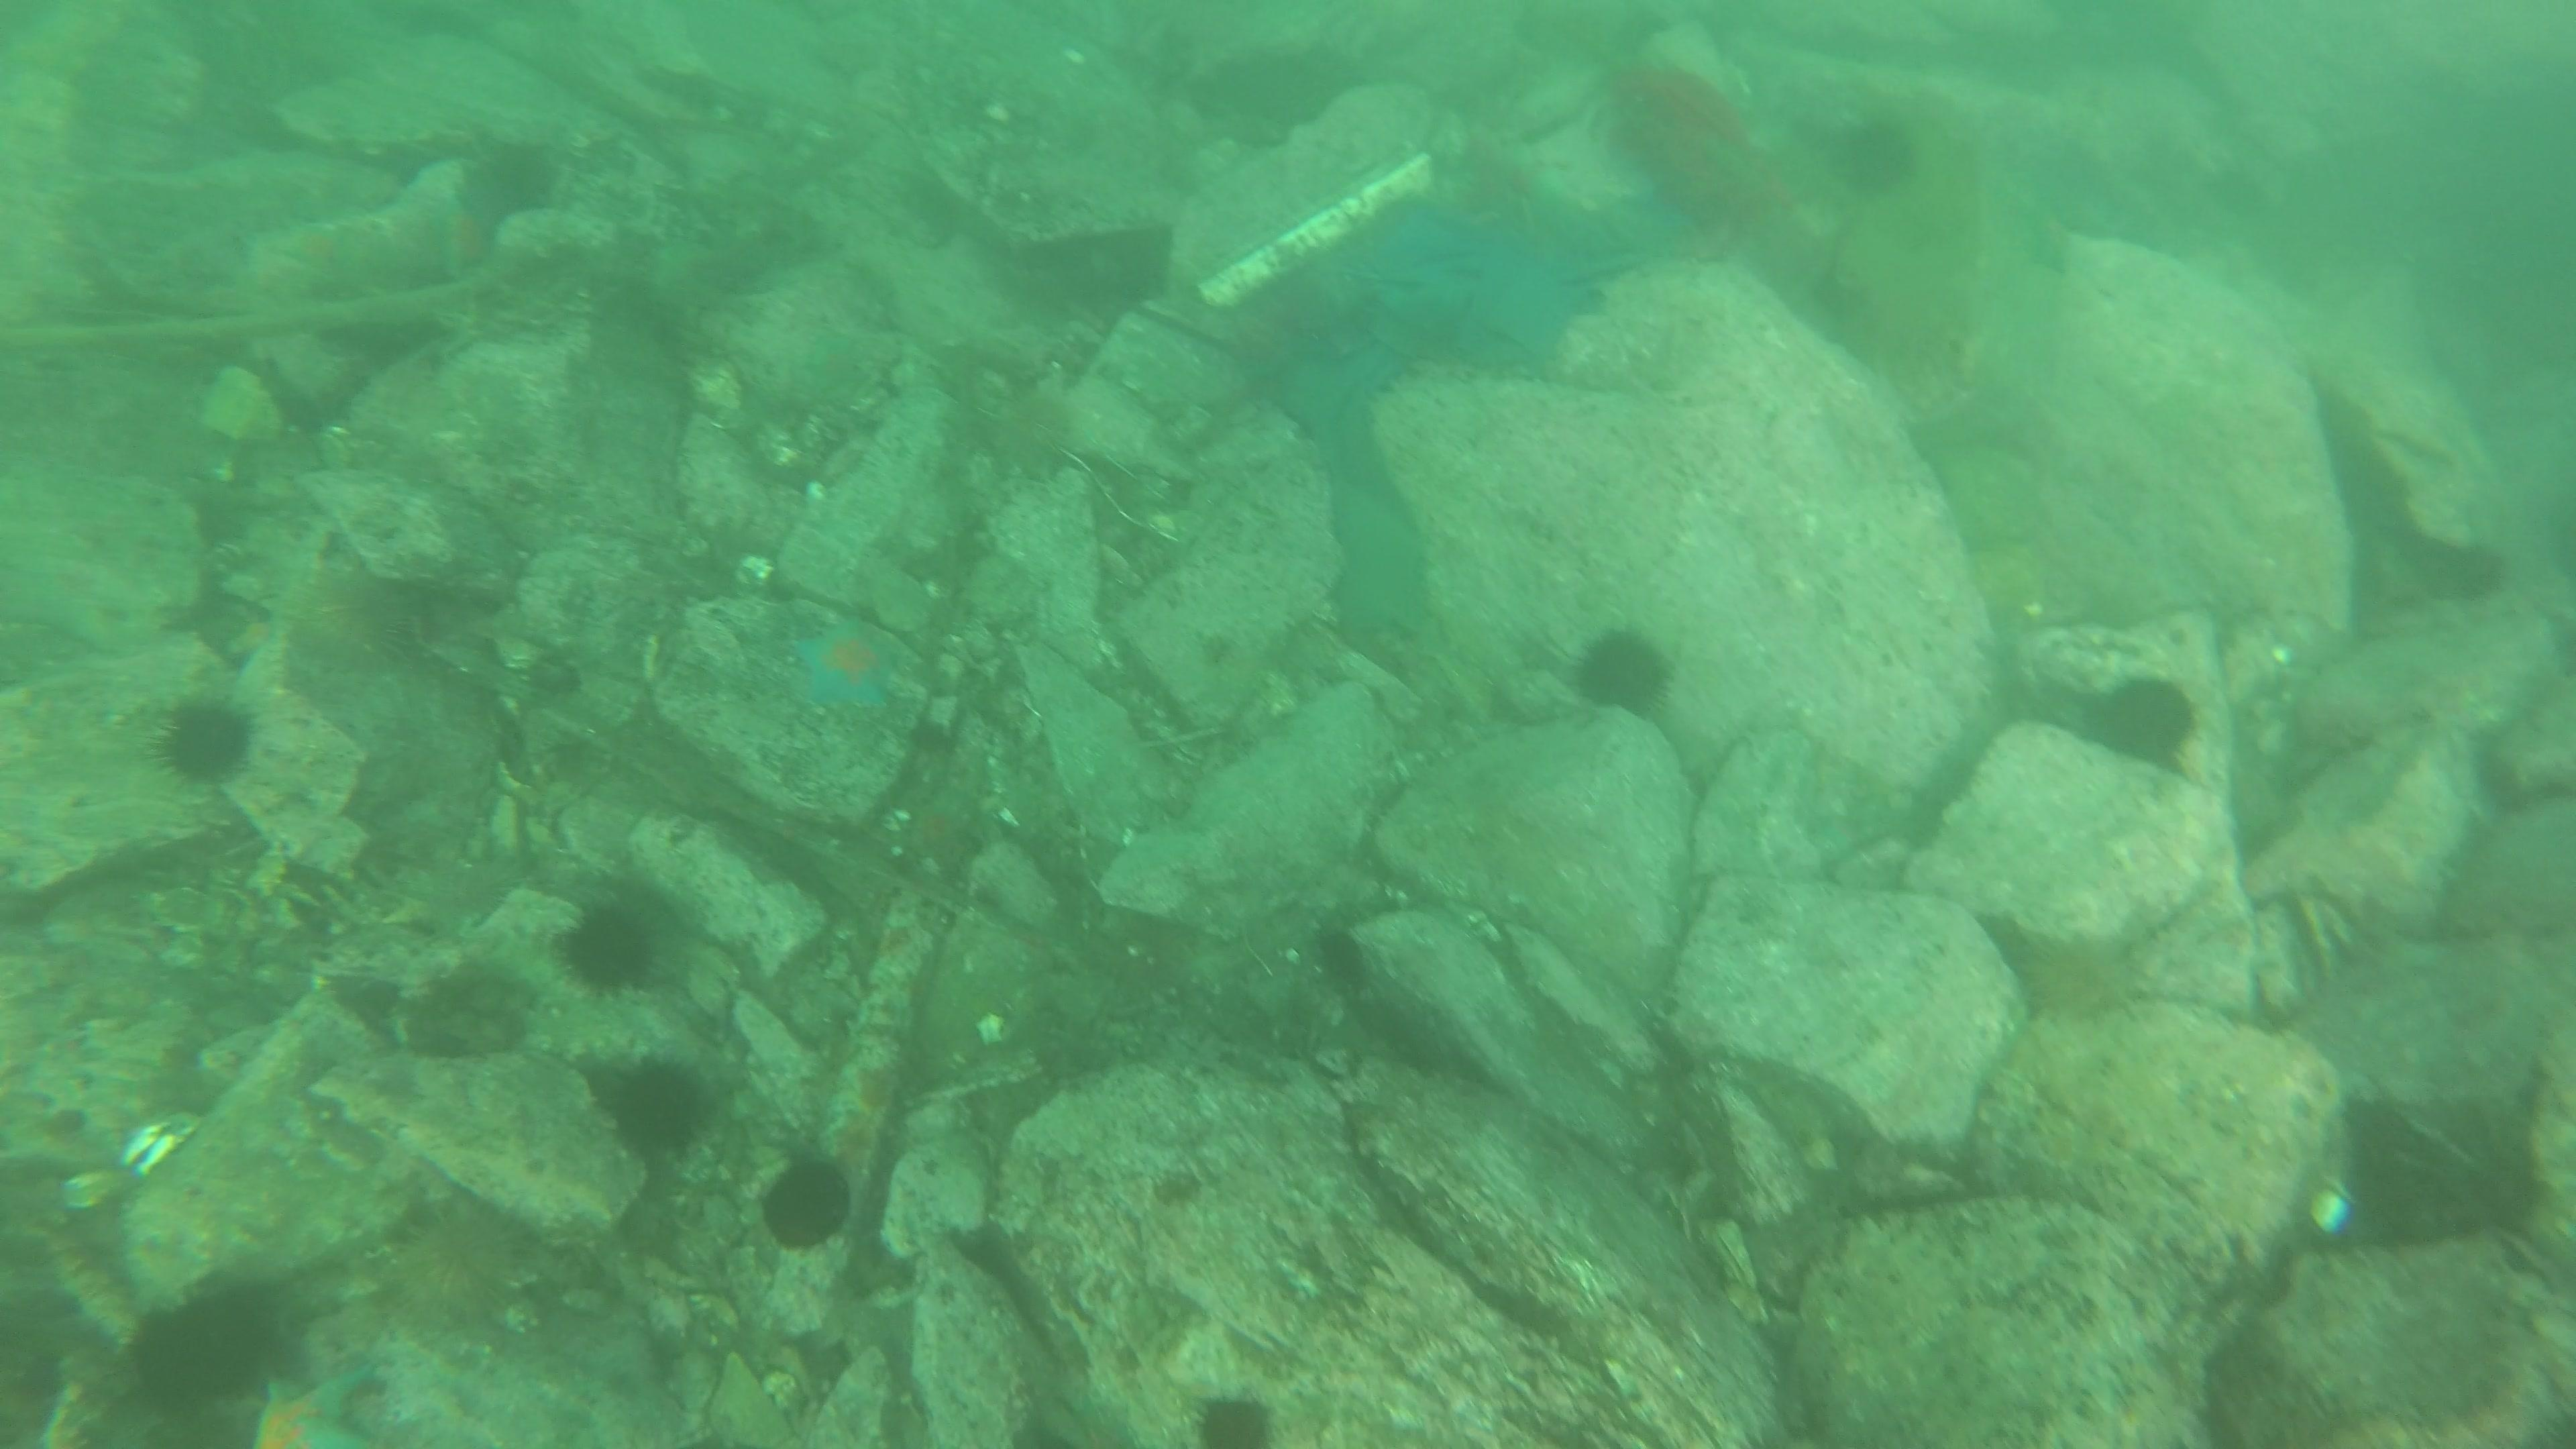echinus: (120, 1274, 297, 1422), (377, 1200, 529, 1336), (285, 559, 425, 683), (2013, 918, 2164, 1031), (398, 954, 540, 1065), (968, 368, 1088, 488), (596, 1053, 718, 1162), (2082, 669, 2204, 775), (554, 893, 669, 1000), (1568, 621, 1679, 724), (150, 690, 262, 791), (755, 1152, 856, 1254), (458, 133, 566, 226), (1824, 106, 1927, 203), (2420, 533, 2512, 610), (1187, 1384, 1281, 1449)
starfish: (784, 609, 915, 718), (237, 1355, 386, 1444)
